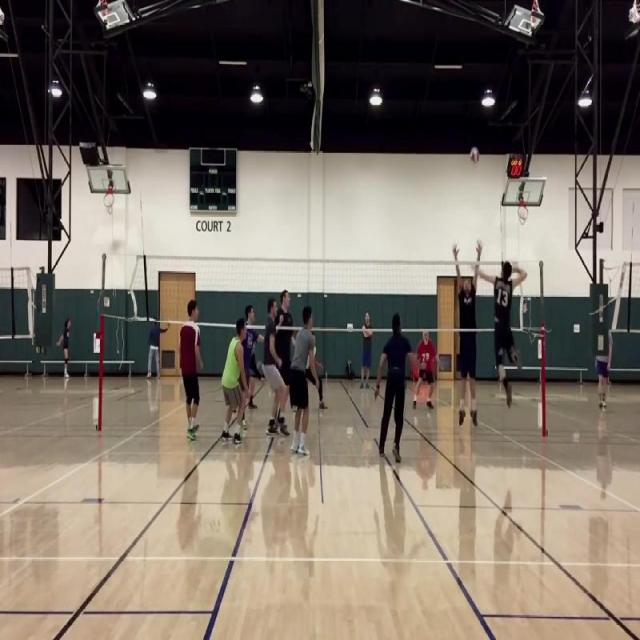volleyball: (470, 147, 479, 163)
